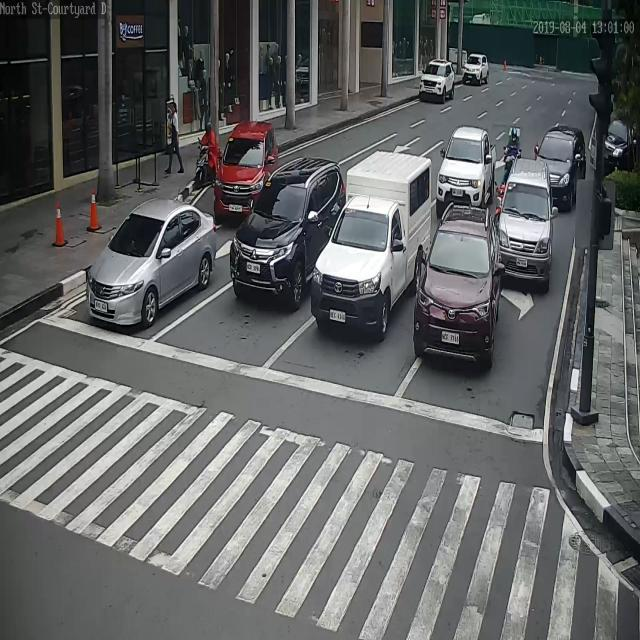car: (230, 158, 347, 312), (87, 201, 219, 331), (414, 211, 500, 371), (494, 169, 559, 293), (215, 122, 280, 211), (436, 126, 497, 211), (534, 126, 587, 212), (604, 114, 640, 175), (417, 59, 456, 105), (464, 53, 491, 84)
jeepney: (197, 117, 221, 189), (503, 124, 523, 181)
van: (310, 149, 440, 340)
